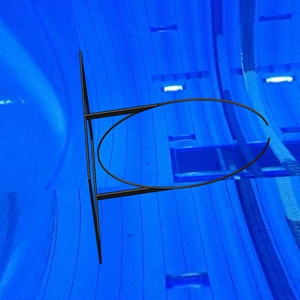circle: (77, 48, 272, 266)
